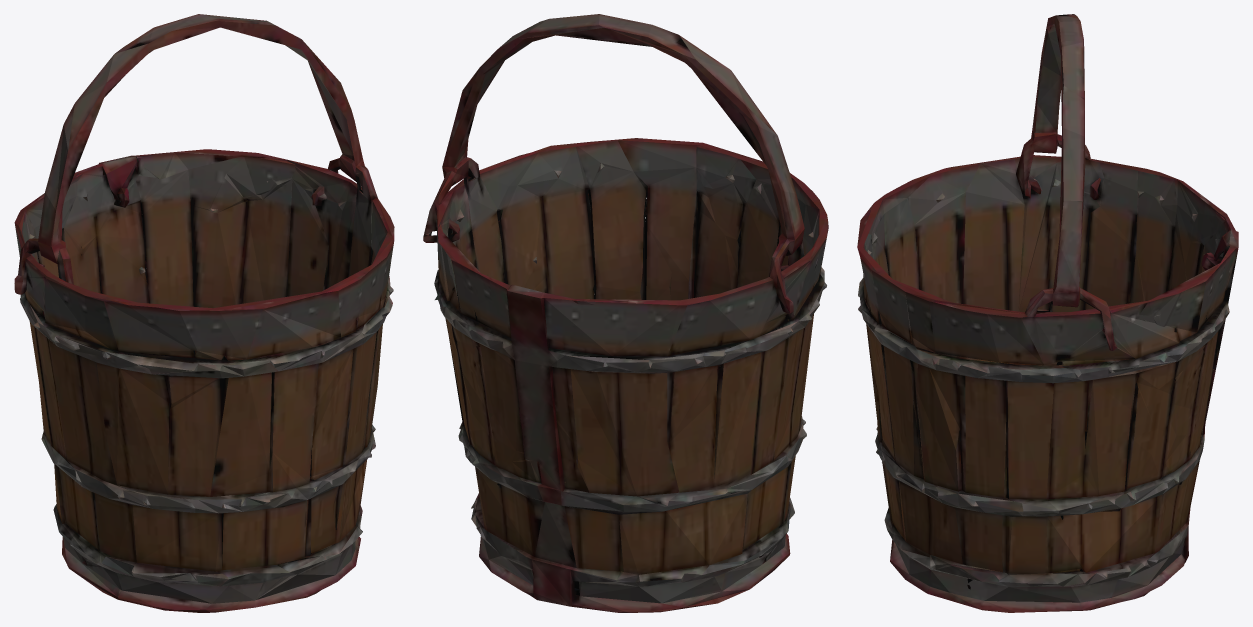
Rendered from prop_bucket_metal_01.glb.
3 views of the same model, side by side, from view 1: azimuth 30°, elevation 25°; view 2: azimuth 150°, elevation 25°; view 3: azimuth 270°, elevation 25° (orthographic). The views are drawn at different scales.
Visible parts, largest first — view 1: geometry_0; view 2: geometry_0; view 3: geometry_0.
Part boxes in pixels (x1,y1,x2,y2): geometry_0: [14, 14, 394, 612]; geometry_0: [423, 14, 828, 612]; geometry_0: [857, 14, 1238, 612].
Bounding box in the file's own units: 0.6785 × 0.9957 × 0.6615.
Materials: 1 (1 with a texture image).
